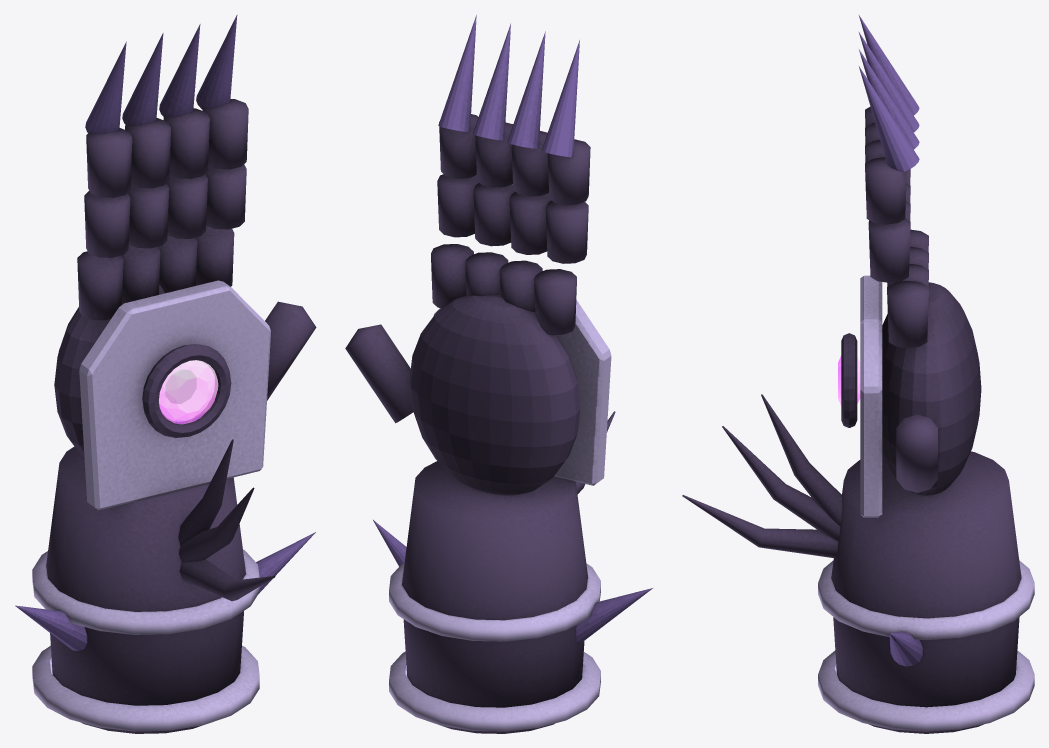
The model's file is arma_lend_manopla_vazio.glb.
The picture shows the model from 3 angles, left to right: view 1: azimuth 30°, elevation 25°; view 2: azimuth 150°, elevation 25°; view 3: azimuth 270°, elevation 25°; orthographic projection. The views are drawn at different scales.
Parts seen in each view (by area): view 1: arma_lend_manopla_vazio, gema_costas; view 2: arma_lend_manopla_vazio; view 3: arma_lend_manopla_vazio.
Part boxes in pixels (x1,y1,x2,y2): arma_lend_manopla_vazio: (15, 14, 316, 733); gema_costas: (159, 360, 218, 424); arma_lend_manopla_vazio: (345, 15, 652, 733); arma_lend_manopla_vazio: (682, 15, 1034, 733).
Bounding box in the file's own units: 0.1863 × 0.395 × 0.192.
Materials: 2 (1 with a texture image).
